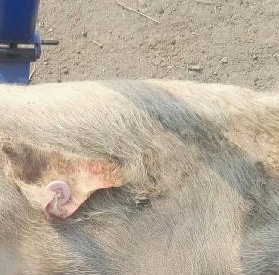text: (26, 161, 87, 221)
